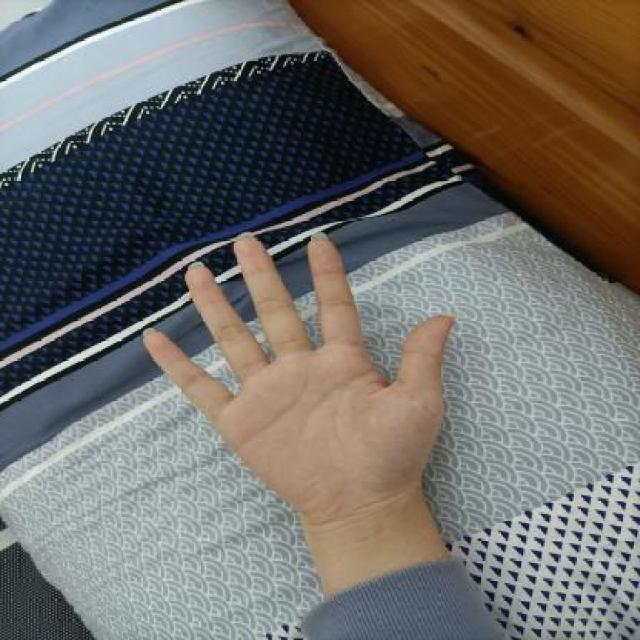bare_hand: (118, 208, 474, 520)
